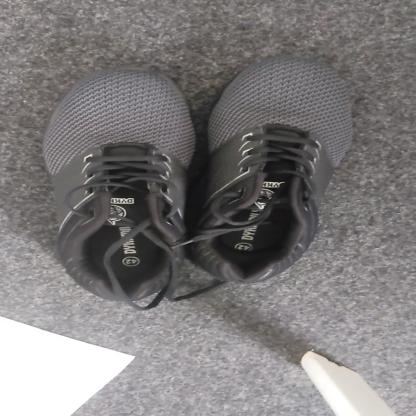safety-shoe: (41, 58, 351, 302)
